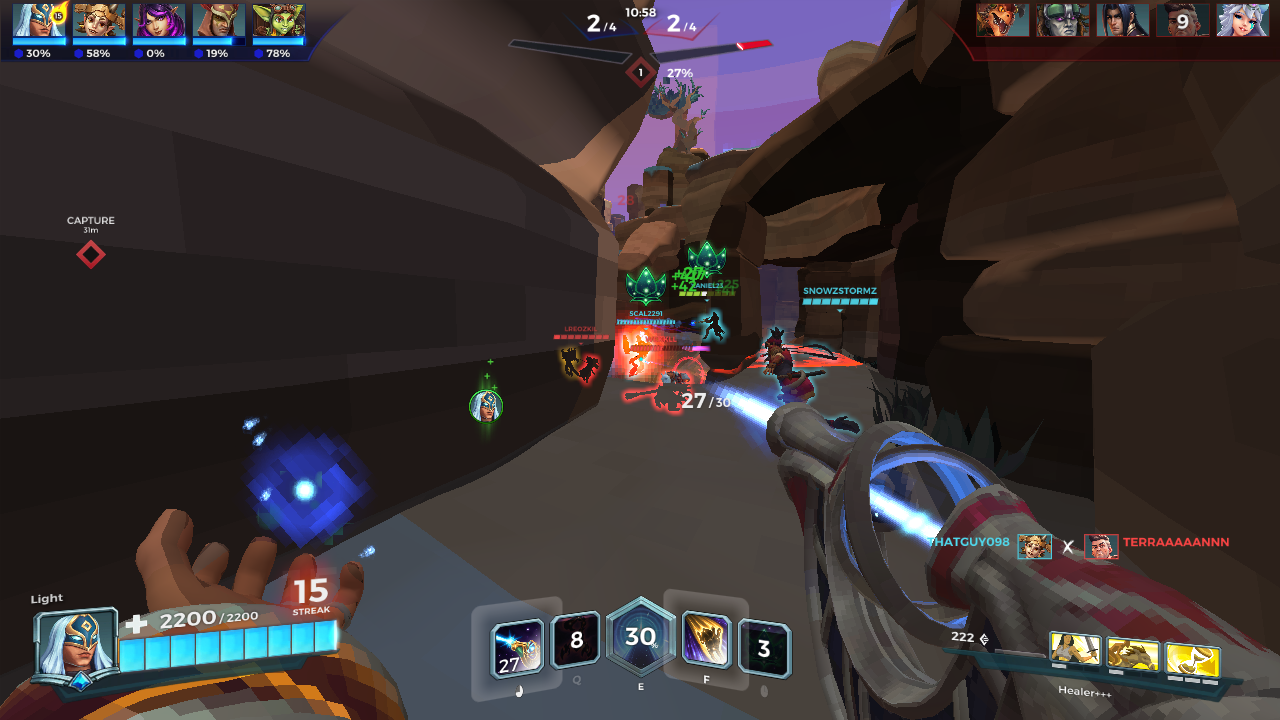model: (622, 363, 699, 419), (556, 342, 580, 380), (576, 351, 599, 387)
